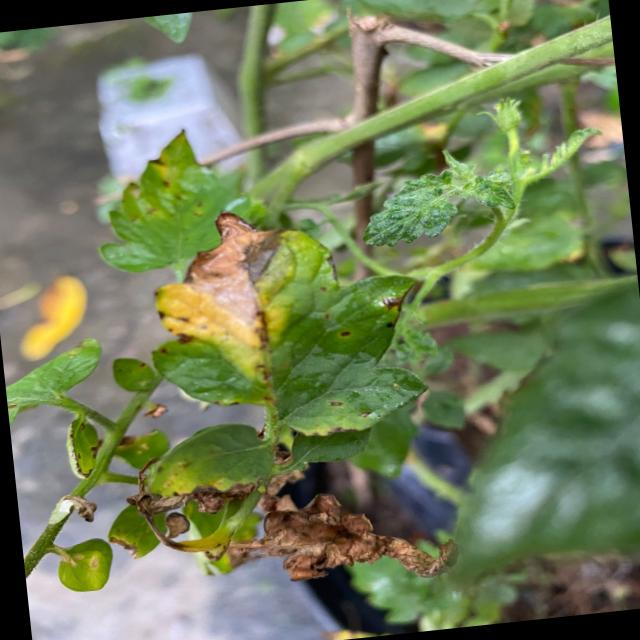Tomato_Late_Blight: (132, 206, 363, 385), (227, 478, 470, 614)
